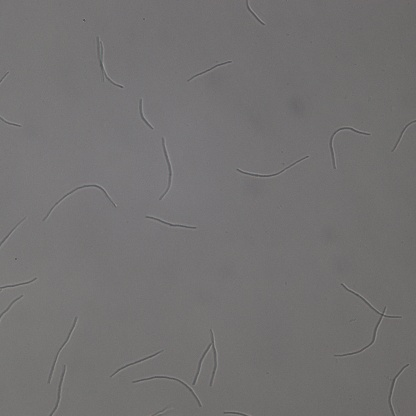Sensitive: (43, 182, 117, 221), (335, 306, 388, 357), (343, 283, 403, 319), (132, 375, 201, 406), (48, 317, 77, 382), (329, 125, 370, 169), (237, 154, 309, 178), (193, 328, 219, 386), (111, 349, 164, 377), (96, 37, 124, 87), (387, 363, 411, 415), (52, 365, 74, 415), (187, 61, 232, 81), (160, 138, 174, 199), (146, 215, 197, 231), (392, 119, 416, 152), (1, 217, 26, 247), (244, 1, 266, 25), (136, 98, 153, 129), (1, 295, 22, 319), (1, 277, 38, 290)
